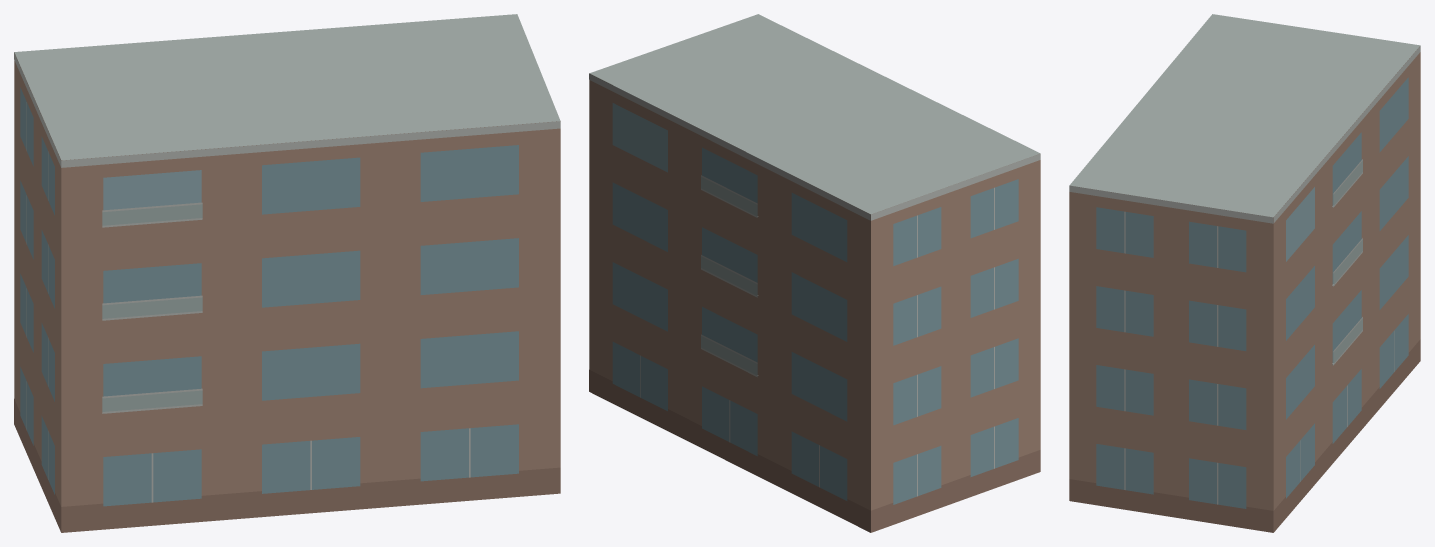
File: survey-upis-32910266.glb
3 views of the same model, side by side, from view 1: azimuth 30°, elevation 25°; view 2: azimuth 150°, elevation 25°; view 3: azimuth 270°, elevation 25° (orthographic). The views are drawn at different scales.
Parts seen in each view (by area): view 1: survey-upis-32910266.tmp; view 2: survey-upis-32910266.tmp; view 3: survey-upis-32910266.tmp.
Part boxes in pixels (x1=…): survey-upis-32910266.tmp: x1=14, y1=14, x2=560, y2=532; survey-upis-32910266.tmp: x1=589, y1=14, x2=1040, y2=532; survey-upis-32910266.tmp: x1=1069, y1=14, x2=1420, y2=532.
Size of the model in its own units: 16.88 by 12.2 by 12.32.
